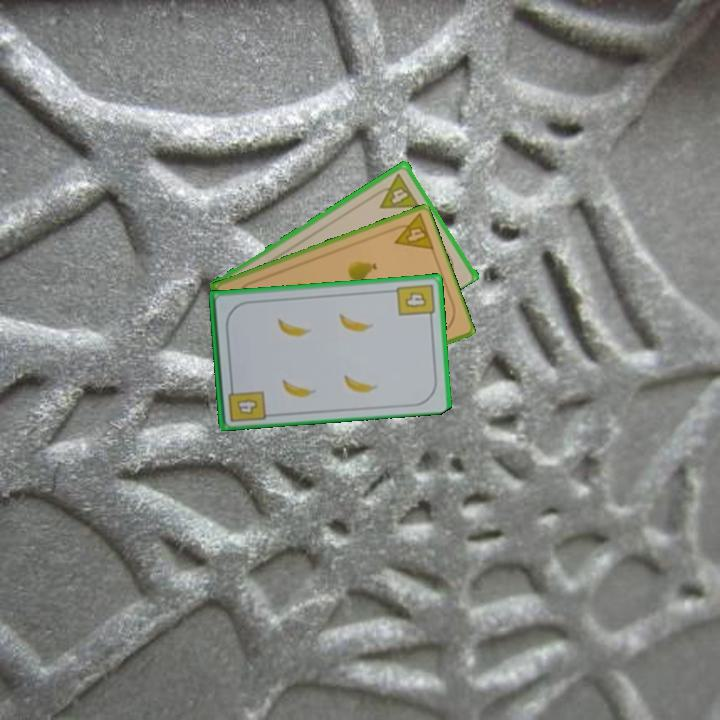4b: (224, 380, 268, 424), (393, 280, 437, 323)
4p: (370, 169, 422, 212), (385, 210, 437, 253)
